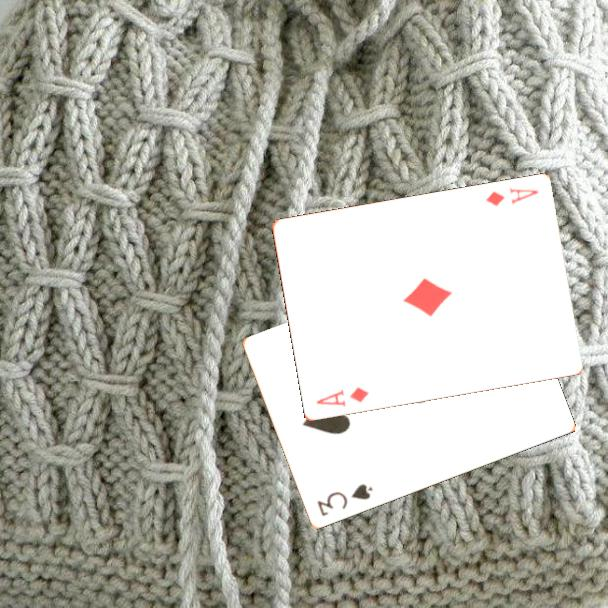d01: (482, 184, 541, 210), (313, 384, 371, 410)
s03: (313, 481, 375, 520)
